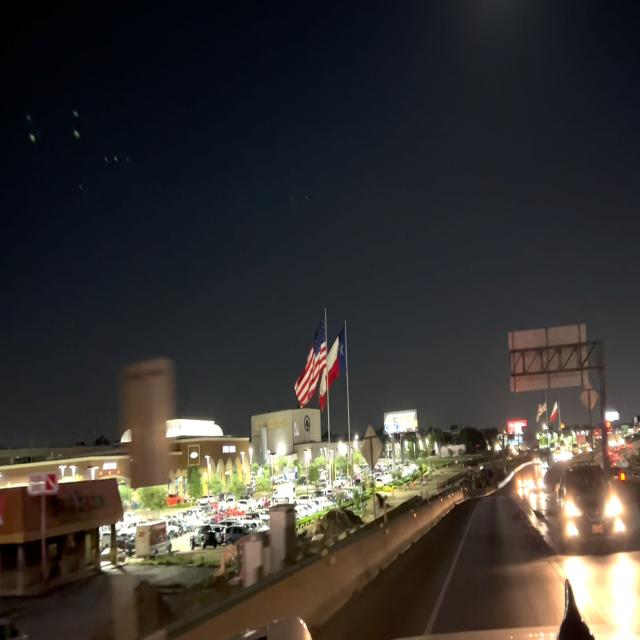back-of-sign: (504, 321, 591, 392), (360, 424, 385, 472)
